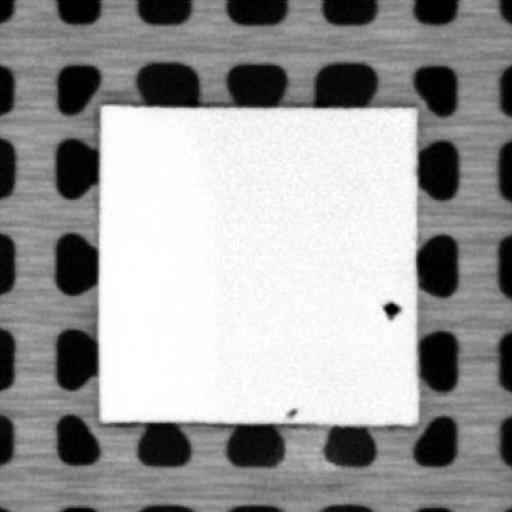DIE_INK: (378, 299, 401, 320), (283, 404, 295, 419)
